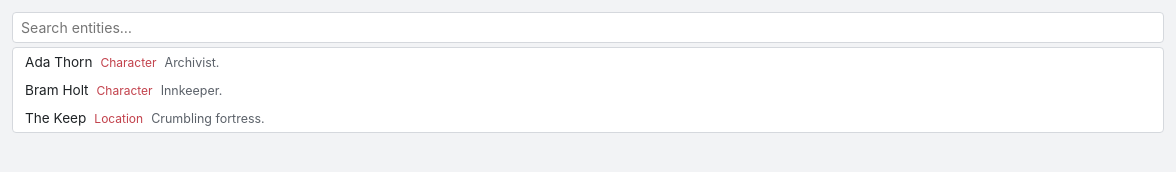
M2-S11 entity picker › search input › filters results by title when text is typed
Expected: the text "Ada Thorn" is shown, 25,54 -> 92,70
Type "ada" into the search field at [588, 28], box 12,12 -> 1164,43
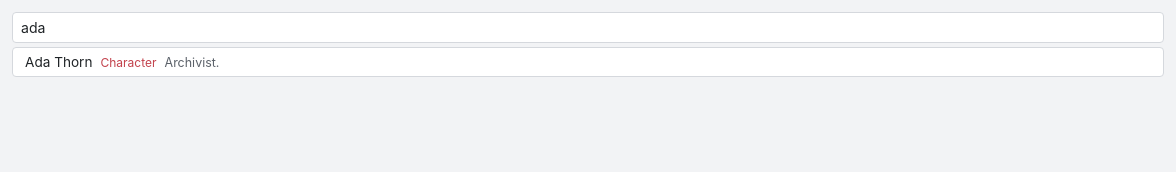
Expected: the text "Ada Thorn" is shown, 25,54 -> 92,70
Now the option "Bram Holt" is gone
